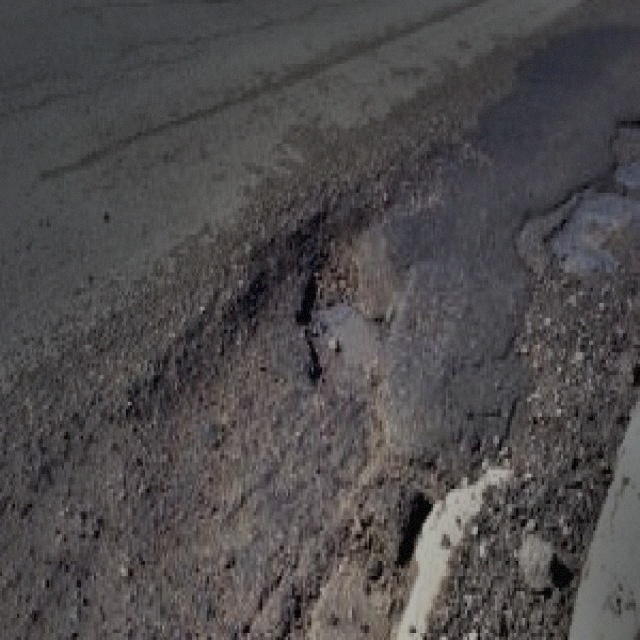pothole: (278, 443, 441, 630), (301, 205, 406, 398), (509, 178, 629, 297)
